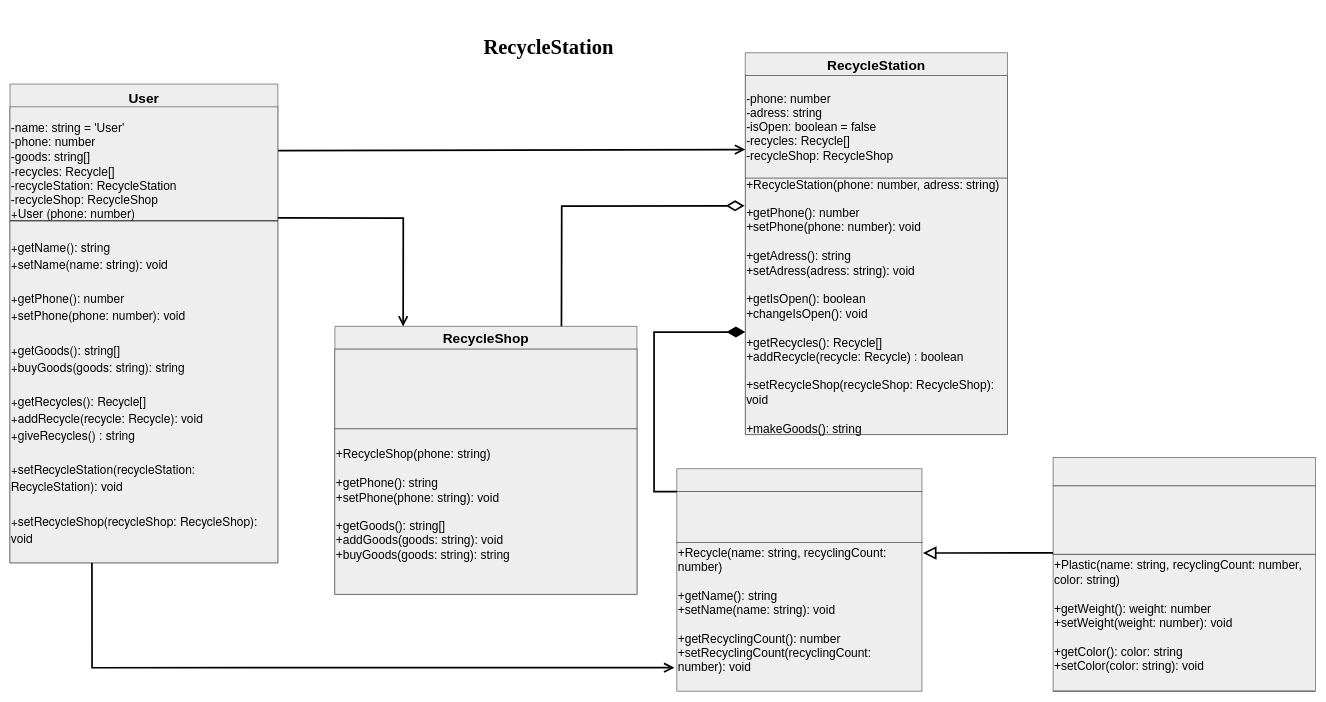
Some shapes in this 1326 by 702 pixel diagram are drawn without their labels. Here are the shapes that lost their labels. From the top down, the box of each, then its label:
(334, 349, 637, 429): -phone: string -goods: string[]
(676, 468, 922, 492): Recycle
(1053, 457, 1315, 486): Plastic
(676, 491, 922, 543): #name: string #recyclingCount: number
(1053, 485, 1315, 554): -weight: number = 0 -color: string
